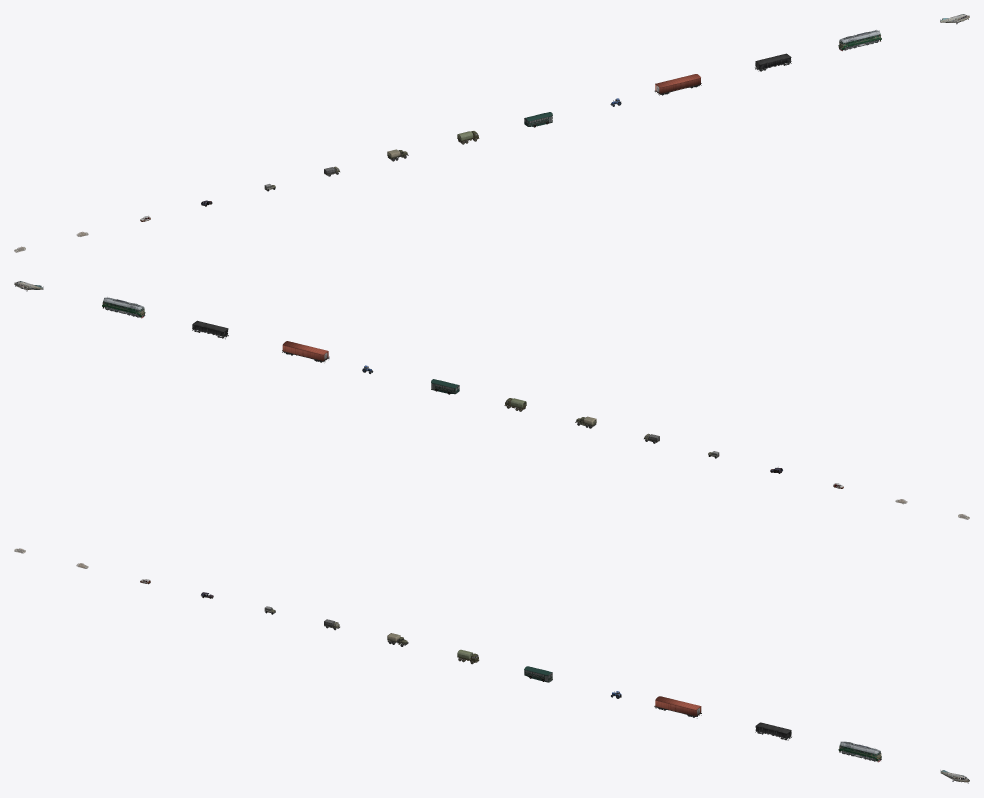
File: wrecks.glb
3 renders of one model, top to bottom at view 1: azimuth 30°, elevation 25°; view 2: azimuth 150°, elevation 25°; view 3: azimuth 330°, elevation 25°, orthographic.
Visible parts, largest first — view 1: B_wk_boxcar__Body_1; view 2: B_wk_boxcar__Body_1; view 3: B_wk_boxcar__Body_1.
Part boxes in pixels (left/top/right/bottom): B_wk_boxcar__Body_1: left=654, top=74, right=701, bottom=95; B_wk_boxcar__Body_1: left=282, top=341, right=329, bottom=362; B_wk_boxcar__Body_1: left=654, top=696, right=701, bottom=718.
Bounding box in the file's own units: 1099 × 13.52 × 12.15.
39 materials, 36 textured.
